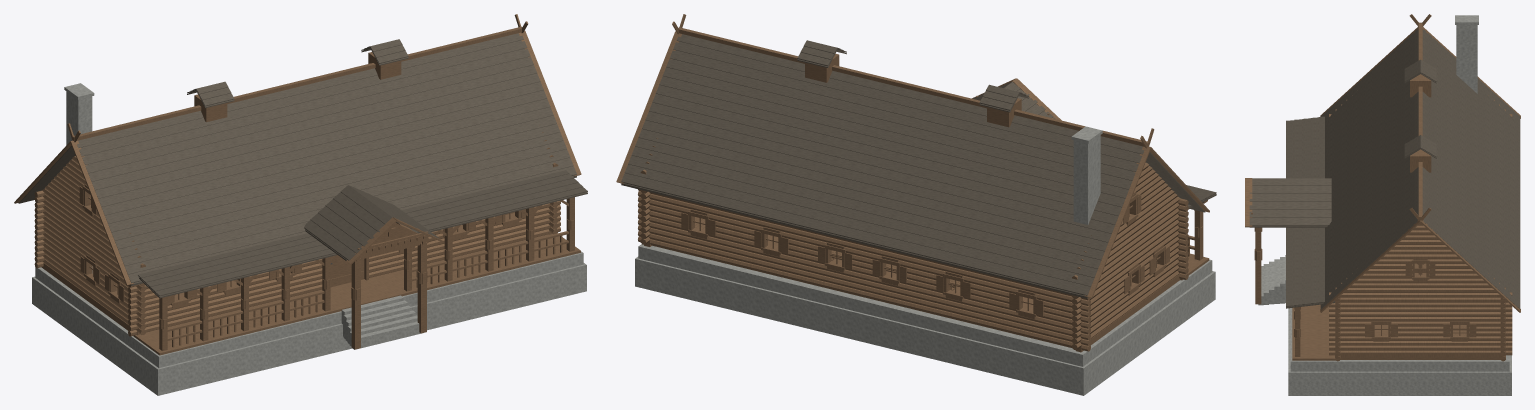
3 renders of one model, left to right at view 1: azimuth 30°, elevation 25°; view 2: azimuth 150°, elevation 25°; view 3: azimuth 270°, elevation 25°, orthographic. The views are drawn at different scales.
Visible parts, largest first — view 1: R01_roof, R01_foundation, R01_shell, R01_gable, R01_floor, R01_frame, R01_gallery, R01_railing, R01_porch, R01_flue, R01_shutter, R01_carving (+1 smaller); view 2: R01_roof, R01_foundation, R01_shell, R01_frame, R01_gable, R01_flue, R01_shutter, R01_floor; view 3: R01_roof, R01_gable, R01_foundation, R01_frame, R01_floor, R01_flue, R01_shell, R01_porch, R01_shutter, R01_gallery.
Part boxes in pixels (x1=…): R01_roof: x1=18, y1=33, x2=587, y2=298; R01_foundation: x1=32, y1=251, x2=586, y2=395; R01_shell: x1=34, y1=190, x2=560, y2=336; R01_gable: x1=42, y1=125, x2=558, y2=334; R01_floor: x1=82, y1=212, x2=580, y2=355; R01_frame: x1=14, y1=14, x2=581, y2=307; R01_gallery: x1=156, y1=197, x2=574, y2=350; R01_railing: x1=167, y1=231, x2=568, y2=347; R01_porch: x1=346, y1=217, x2=443, y2=349; R01_flue: x1=64, y1=83, x2=94, y2=144; R01_shutter: x1=79, y1=186, x2=525, y2=304; R01_carving: x1=357, y1=227, x2=428, y2=256; R01_roof: x1=621, y1=34, x2=1216, y2=298; R01_foundation: x1=635, y1=244, x2=1215, y2=395; R01_shell: x1=638, y1=189, x2=1188, y2=352; R01_frame: x1=616, y1=14, x2=1209, y2=319; R01_gable: x1=640, y1=130, x2=1180, y2=349; R01_flue: x1=1071, y1=126, x2=1102, y2=224; R01_shutter: x1=681, y1=194, x2=1169, y2=316; R01_floor: x1=652, y1=234, x2=1209, y2=350; R01_roof: x1=1249, y1=29, x2=1520, y2=309; R01_gable: x1=1329, y1=95, x2=1512, y2=355; R01_foundation: x1=1258, y1=255, x2=1511, y2=395; R01_frame: x1=1320, y1=14, x2=1520, y2=341; R01_floor: x1=1292, y1=263, x2=1500, y2=360; R01_flue: x1=1455, y1=15, x2=1478, y2=93; R01_shell: x1=1335, y1=296, x2=1505, y2=361; R01_porch: x1=1245, y1=178, x2=1262, y2=304; R01_shutter: x1=1365, y1=263, x2=1476, y2=337; R01_gallery: x1=1294, y1=307, x2=1300, y2=356.
Size of the model in its own units: 26.1 by 12.45 by 15.48.
Materials: 5 (4 with a texture image).
